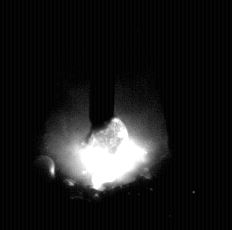arame: (89, 0, 115, 133)
poca: (41, 0, 169, 230)
